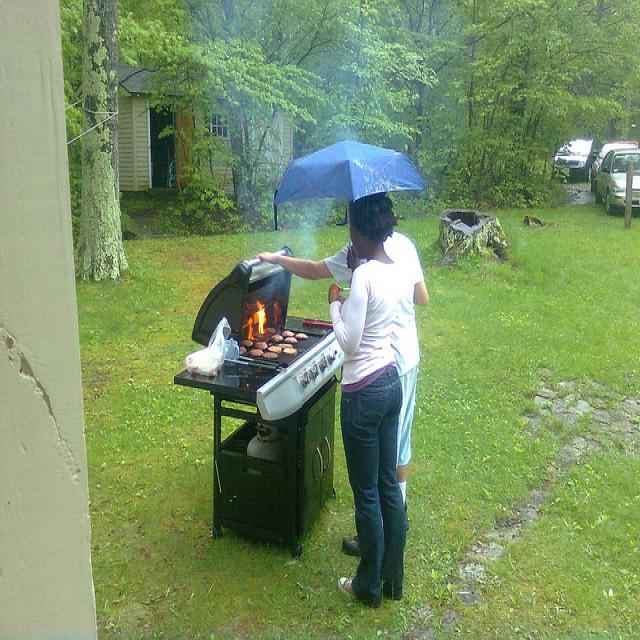Vehicle: (595, 148, 640, 214), (589, 138, 637, 193), (551, 139, 594, 169)
